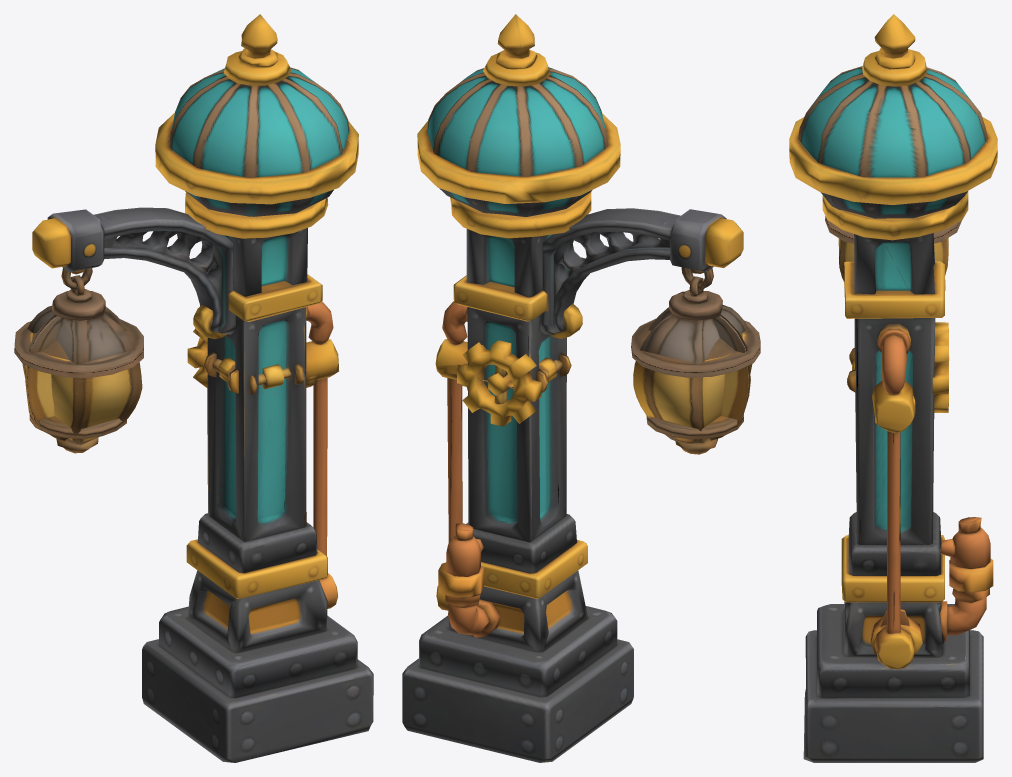
The model's file is lamp_tech.glb.
3 renders of one model, left to right at view 1: azimuth 30°, elevation 25°; view 2: azimuth 150°, elevation 25°; view 3: azimuth 270°, elevation 25°, orthographic.
Parts seen in each view (by area): view 1: geometry_0; view 2: geometry_0; view 3: geometry_0.
Part boxes in pixels (x1=…): geometry_0: x1=14, y1=14, x2=373, y2=762; geometry_0: x1=402, y1=14, x2=760, y2=762; geometry_0: x1=789, y1=14, x2=997, y2=762.
Size of the model in its own units: 0.4595 by 0.9521 by 0.2524.
1 material, 1 textured.
